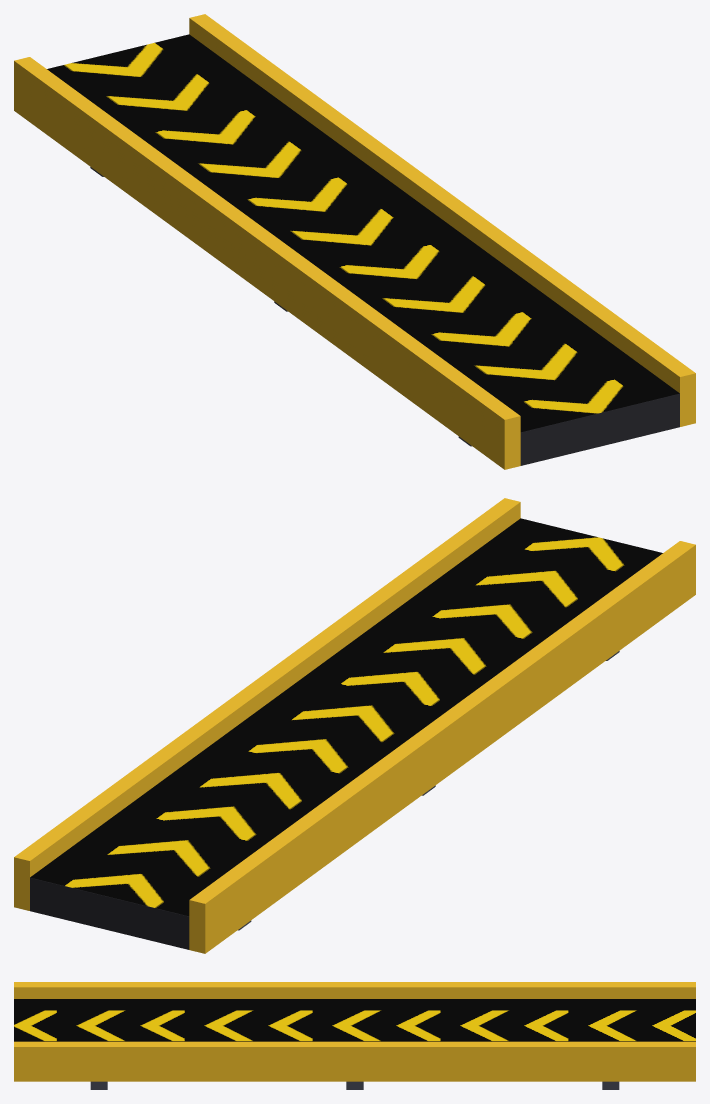
File: tycoon_conveyor.obj
3 views of the same model, one above another, from view 1: azimuth 30°, elevation 25°; view 2: azimuth 150°, elevation 25°; view 3: azimuth 270°, elevation 25° (orthographic). The views are drawn at different scales.
Parts seen in each view (by area): view 1: Belt_Arrows, RailL, RailR, Belt; view 2: Belt_Arrows, RailL, RailR, Belt; view 3: Belt_Arrows, RailR, RailL.
Part boxes in pixels (bbox=[...]): Belt_Arrows: bbox=[47, 34, 679, 432]; RailL: bbox=[14, 57, 520, 469]; RailR: bbox=[189, 14, 695, 426]; Belt: bbox=[520, 393, 679, 465]; Belt_Arrows: bbox=[30, 518, 662, 916]; RailL: bbox=[189, 541, 695, 953]; RailR: bbox=[14, 498, 520, 910]; Belt: bbox=[30, 877, 189, 949]; Belt_Arrows: bbox=[14, 999, 695, 1041]; RailR: bbox=[14, 1041, 695, 1081]; RailL: bbox=[14, 982, 695, 998].
Bounding box in the file's own units: 3.6 × 1.3 × 16.
Materials: 10 (1 with a texture image).
